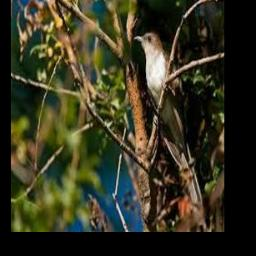Cuckoo: (134, 32, 203, 208)
